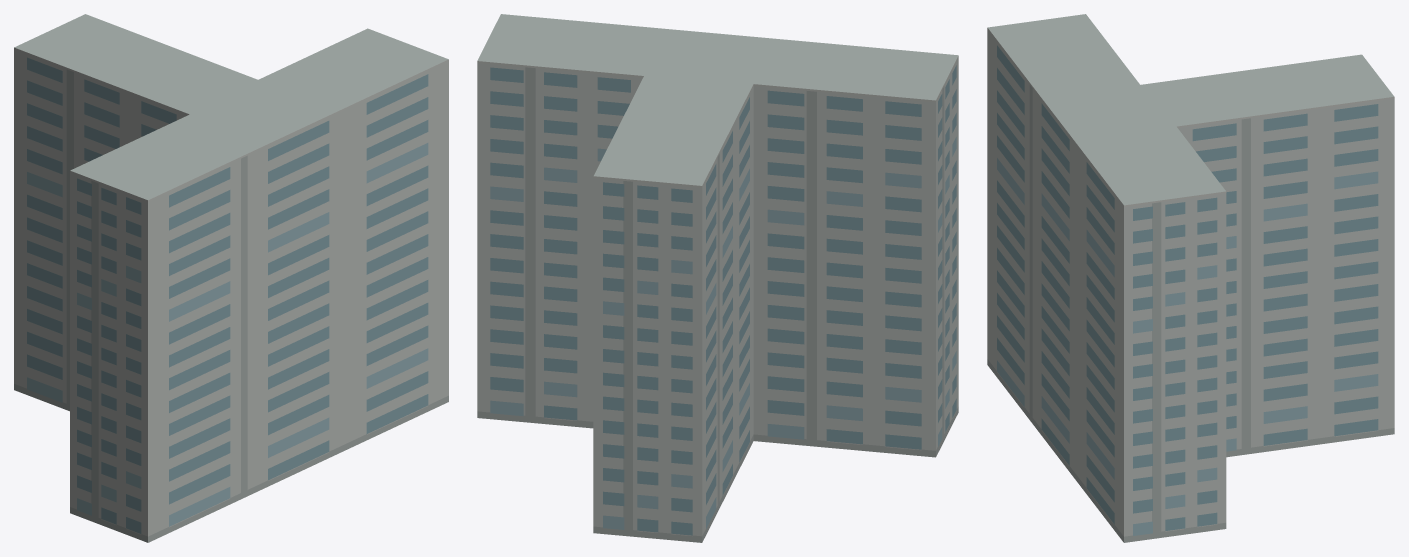
The model's file is residential-f663f007-948f-4e2a-8cde-596875a3b946.glb.
3 views of the same model, side by side, from view 1: azimuth 30°, elevation 25°; view 2: azimuth 150°, elevation 25°; view 3: azimuth 270°, elevation 25° (orthographic). The views are drawn at different scales.
Parts seen in each view (by area): view 1: residential-f663f007-948f-4e2a-8cde-596875a3b946.tmp; view 2: residential-f663f007-948f-4e2a-8cde-596875a3b946.tmp; view 3: residential-f663f007-948f-4e2a-8cde-596875a3b946.tmp.
Part boxes in pixels (x1,y1,x2,y2): residential-f663f007-948f-4e2a-8cde-596875a3b946.tmp: [14, 14, 448, 542]; residential-f663f007-948f-4e2a-8cde-596875a3b946.tmp: [477, 14, 958, 542]; residential-f663f007-948f-4e2a-8cde-596875a3b946.tmp: [987, 14, 1394, 542].
Bounding box in the file's own units: 54.74 × 45 × 49.19.
